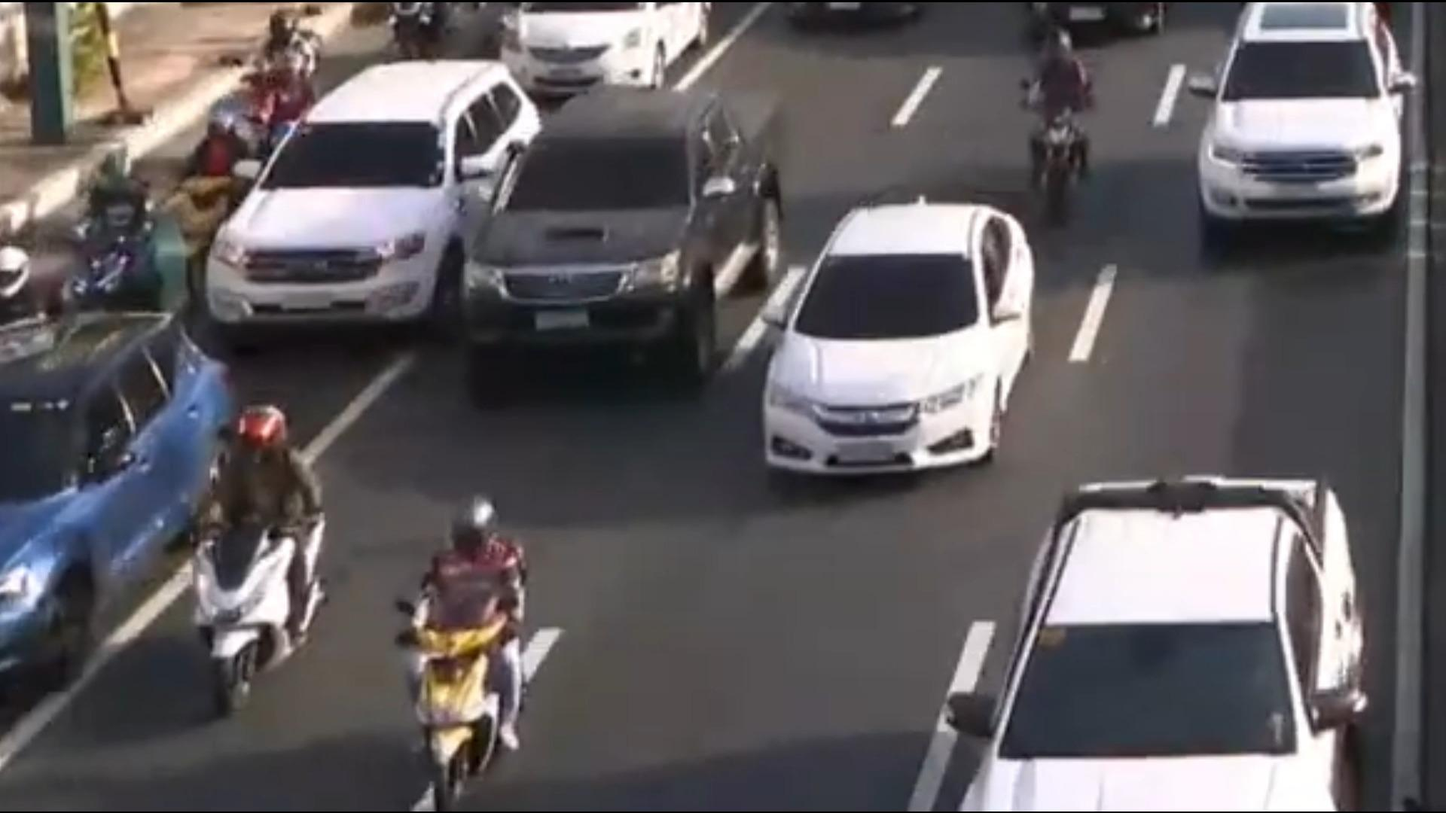Motorcycle: (393, 497, 533, 813), (198, 405, 324, 722), (59, 145, 169, 314), (178, 113, 252, 295), (1024, 28, 1092, 216), (245, 0, 318, 141)
Pickup: (935, 469, 1364, 812), (459, 85, 788, 412)
SUV: (0, 301, 235, 696), (201, 62, 533, 331), (1187, 0, 1420, 242)
Sedan: (750, 196, 1041, 480)
